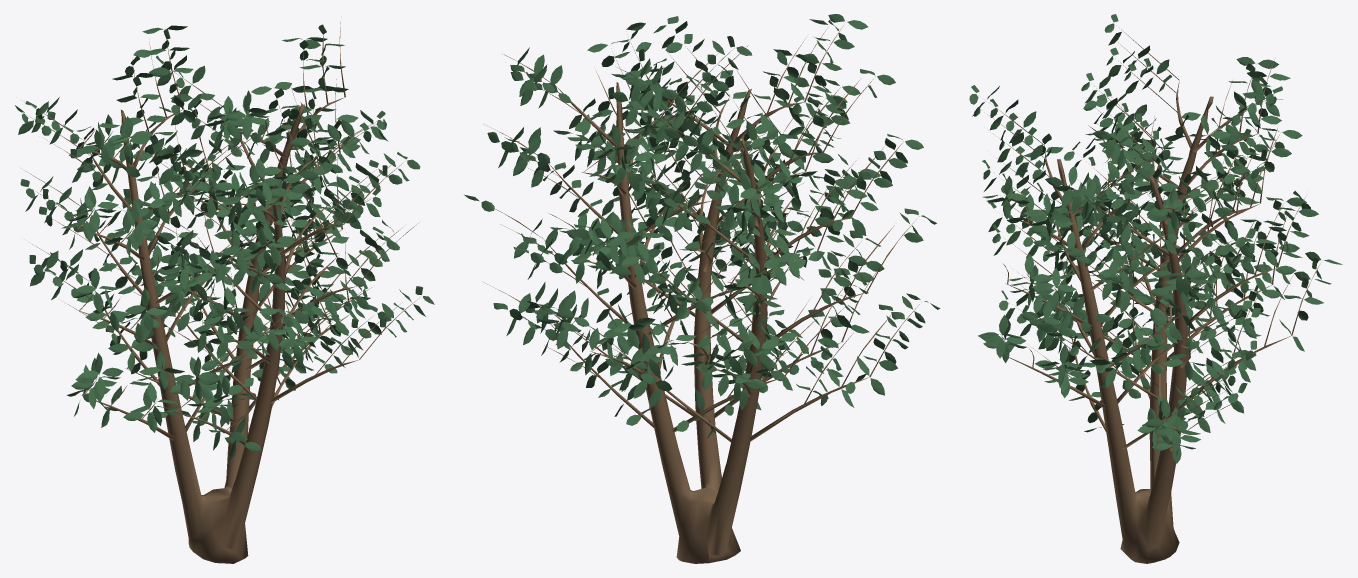
The model's file is Myrte_0_Niveau1.fbx.
3 renders of one model, left to right at view 1: azimuth 30°, elevation 25°; view 2: azimuth 150°, elevation 25°; view 3: azimuth 270°, elevation 25°, orthographic. The views are drawn at different scales.
Visible parts, largest first — view 1: Myrte_0_Niveau1_Jeu; view 2: Myrte_0_Niveau1_Jeu; view 3: Myrte_0_Niveau1_Jeu.
Part boxes in pixels (bbox=[...]): Myrte_0_Niveau1_Jeu: bbox=[15, 17, 434, 563]; Myrte_0_Niveau1_Jeu: bbox=[464, 14, 940, 563]; Myrte_0_Niveau1_Jeu: bbox=[969, 14, 1342, 563].
Size of the model in its own units: 93.67 by 119 by 85.32.
